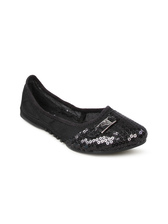shoes: (17, 66, 150, 158)
